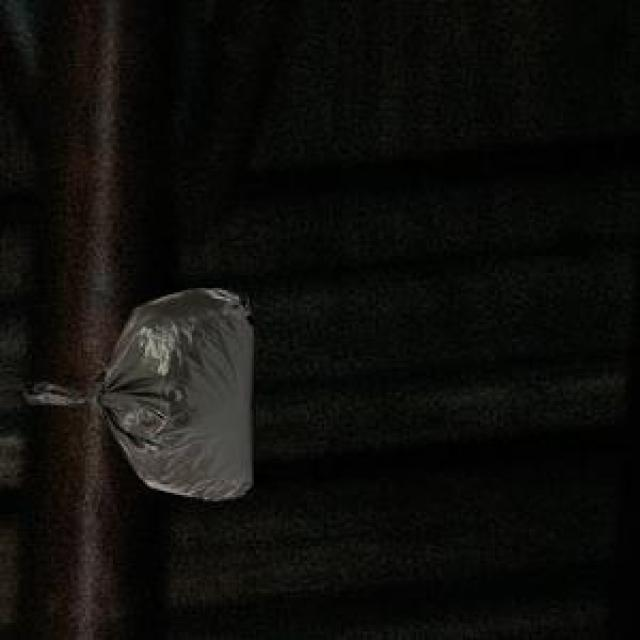waste: (24, 289, 254, 501)
